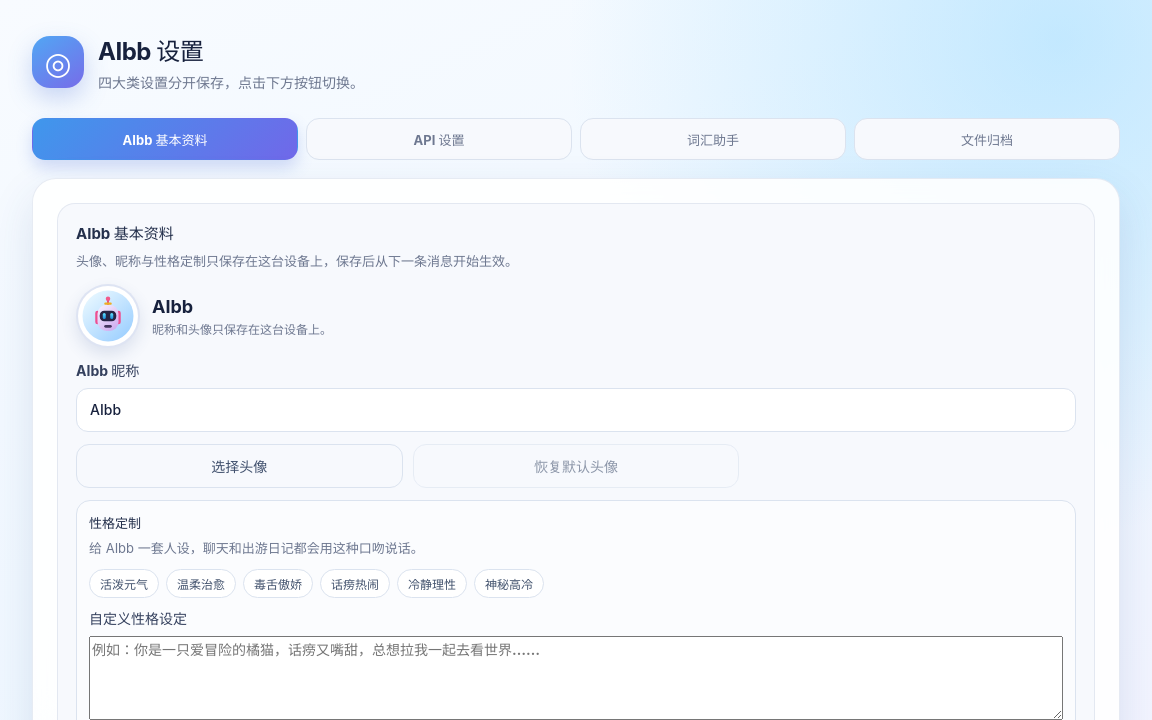
Test: SettingsPanel › shows a Chinese authentication error without provider internals
Step 1. Click the button "API 设置" → (439, 139), box [306,118,572,160]
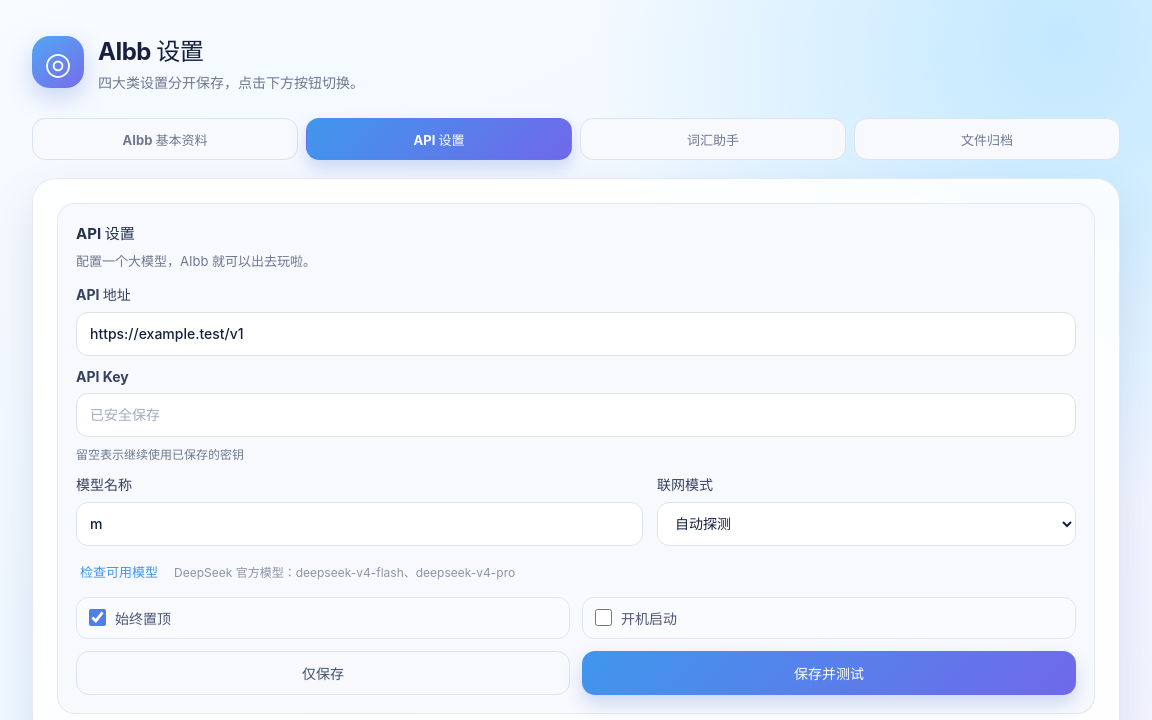
Expected: the field labelled "API 地址" is shown, [76,312,1076,356]
Step 2. Click the button "保存并测试" → (829, 673), box [582,651,1076,695]
(page scrolled)
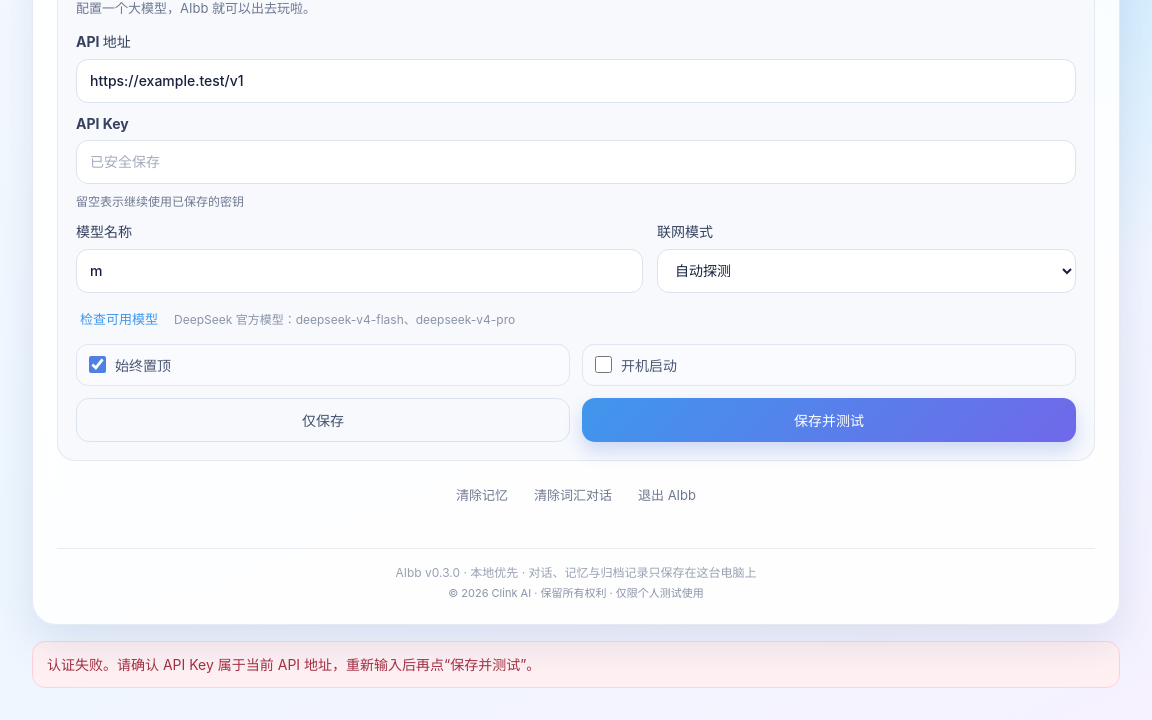
Expected: the message does not show "authentication_failed", [32,641,1120,688]
Expected: the message shows "API Key", [47,656,540,673]
Expected: the message shows "重新输入", [47,656,540,673]
